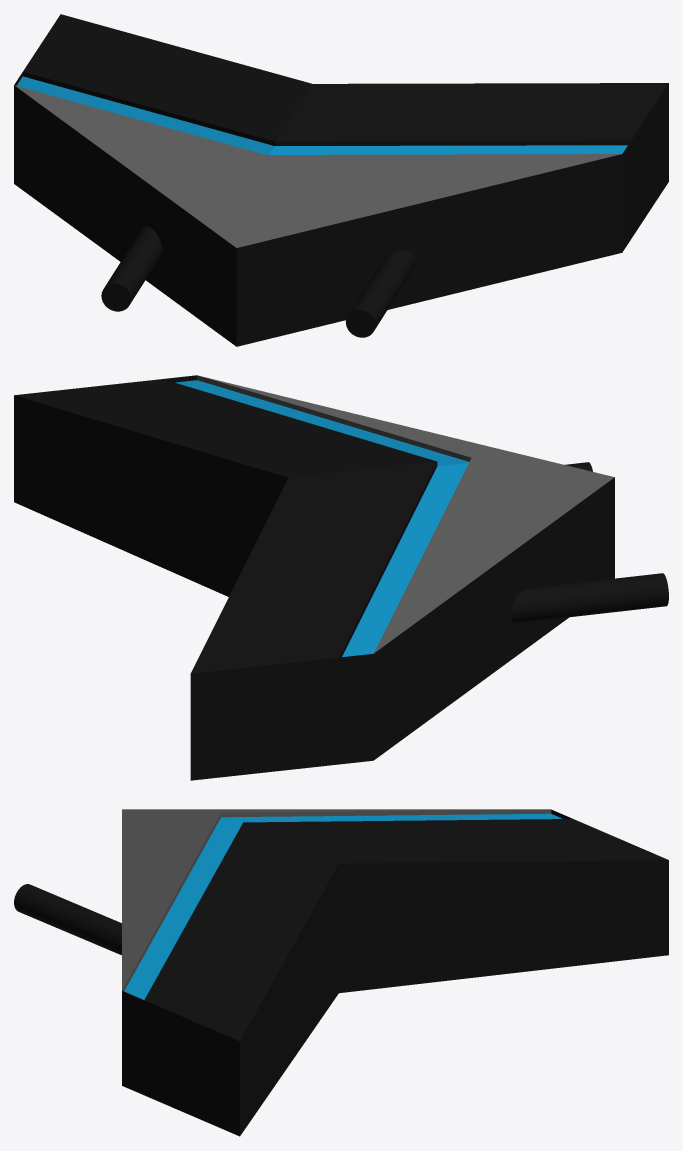
File: dev-ship.obj
The picture shows the model from 3 angles, top to bottom: view 1: azimuth 30°, elevation 25°; view 2: azimuth 150°, elevation 25°; view 3: azimuth 270°, elevation 25°; orthographic projection. The views are drawn at different scales.
Parts seen in each view (by area): view 1: Cube; view 2: Cube; view 3: Cube.
Boxes of the visible parts, x1=… form: Cube: x1=14, y1=14, x2=668, y2=346; Cube: x1=14, y1=375, x2=668, y2=780; Cube: x1=14, y1=809, x2=668, y2=1136.
Bounding box in the file's own units: 3.04 × 0.6669 × 3.05.
